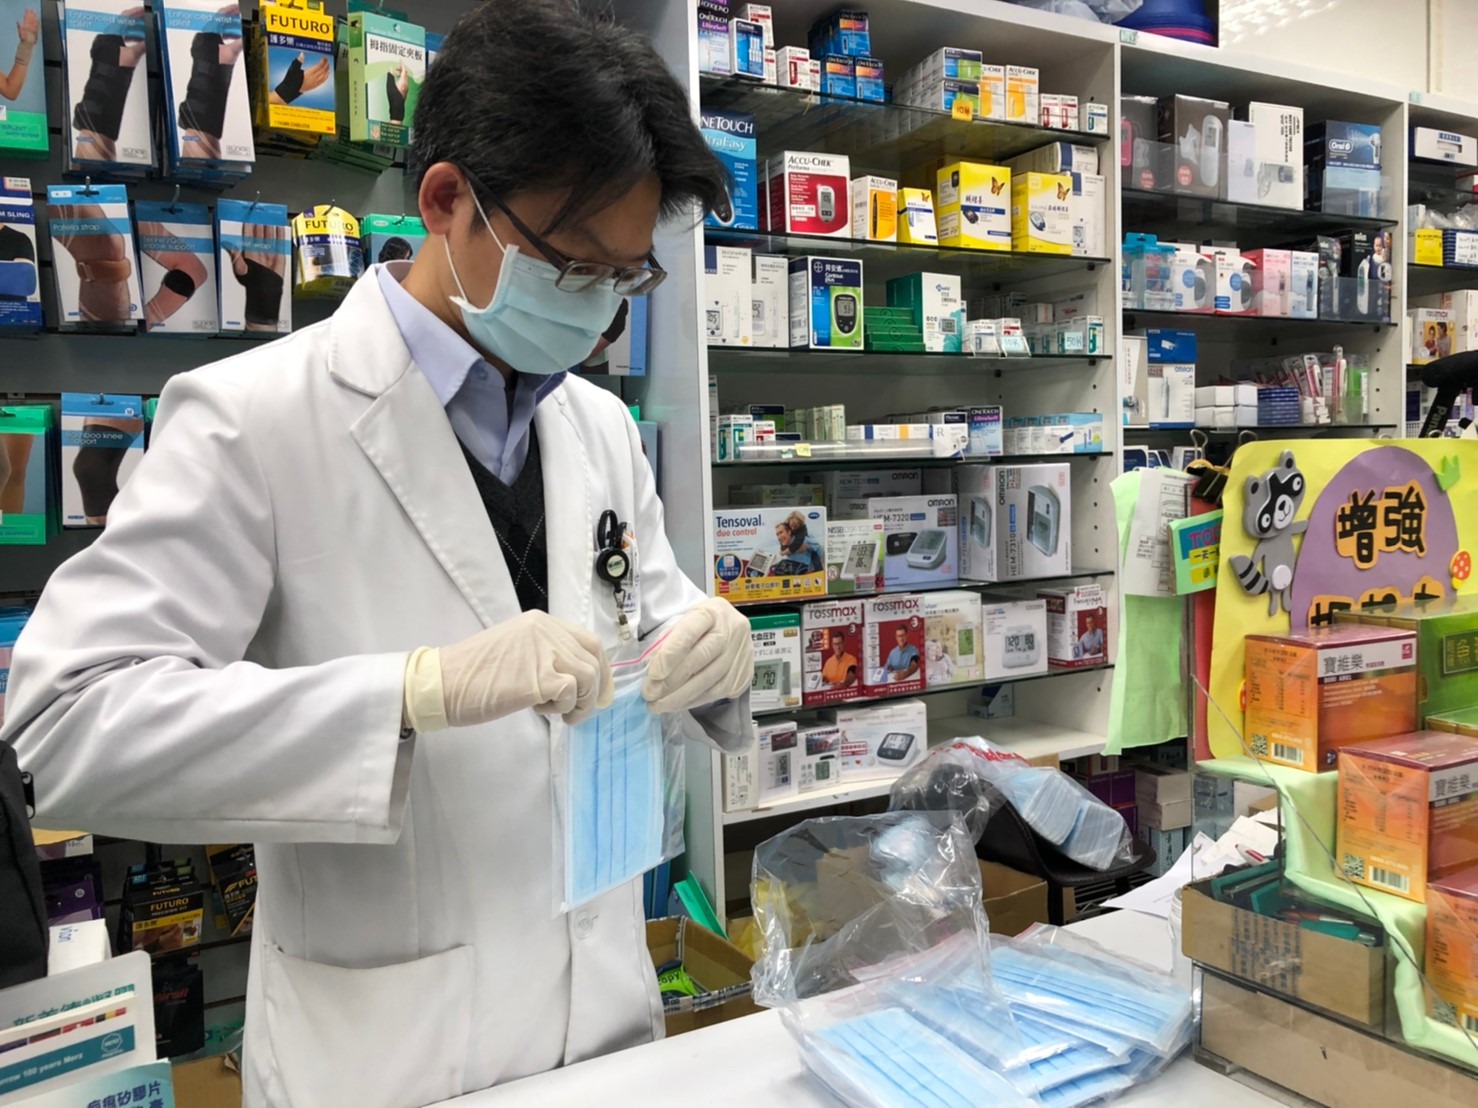Mask: (435, 136, 665, 379)
